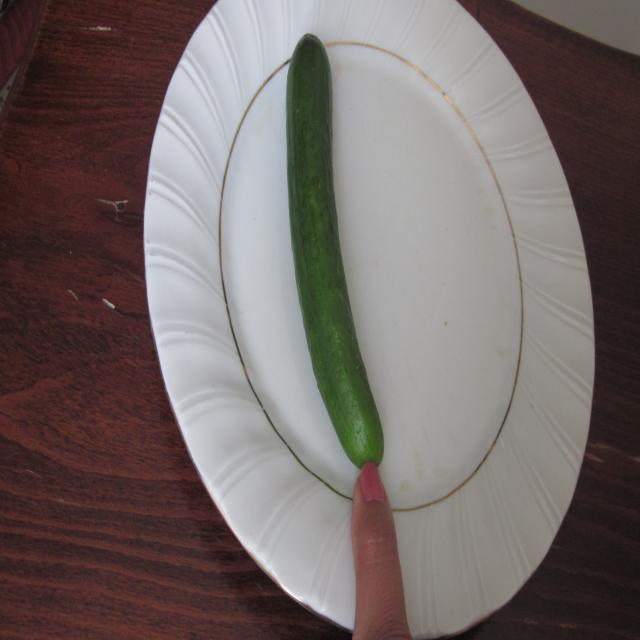cucumber: (286, 30, 418, 468)
